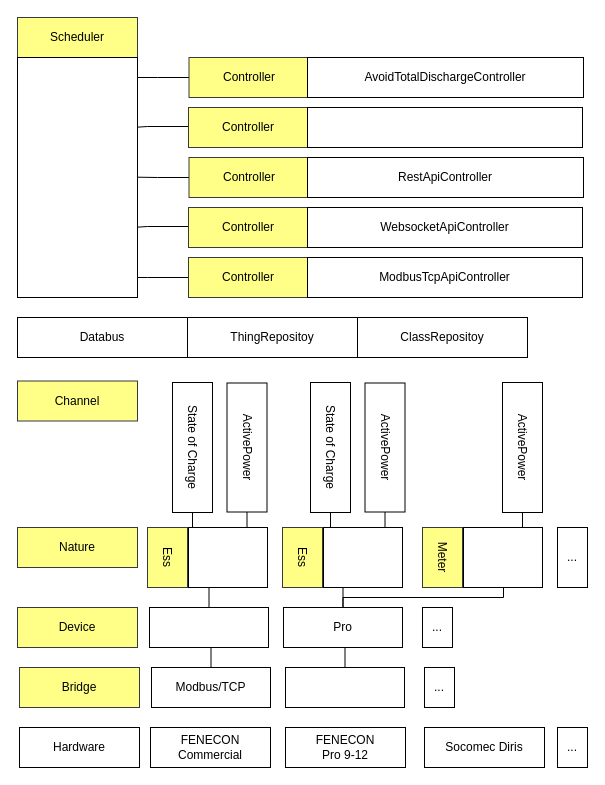
This 605x785 diagram has some shape labels left out. Each missing label, with the centre of its shape:
BalancingController: (x=444, y=127)
Commercial: (x=208, y=627)
Commercial Ess: (x=228, y=557)
Modbus/RTU: (x=344, y=687)
Pro Ess: (x=362, y=557)
PvMeter Ess: (x=502, y=557)
Simple Scheduler: (x=77, y=177)
